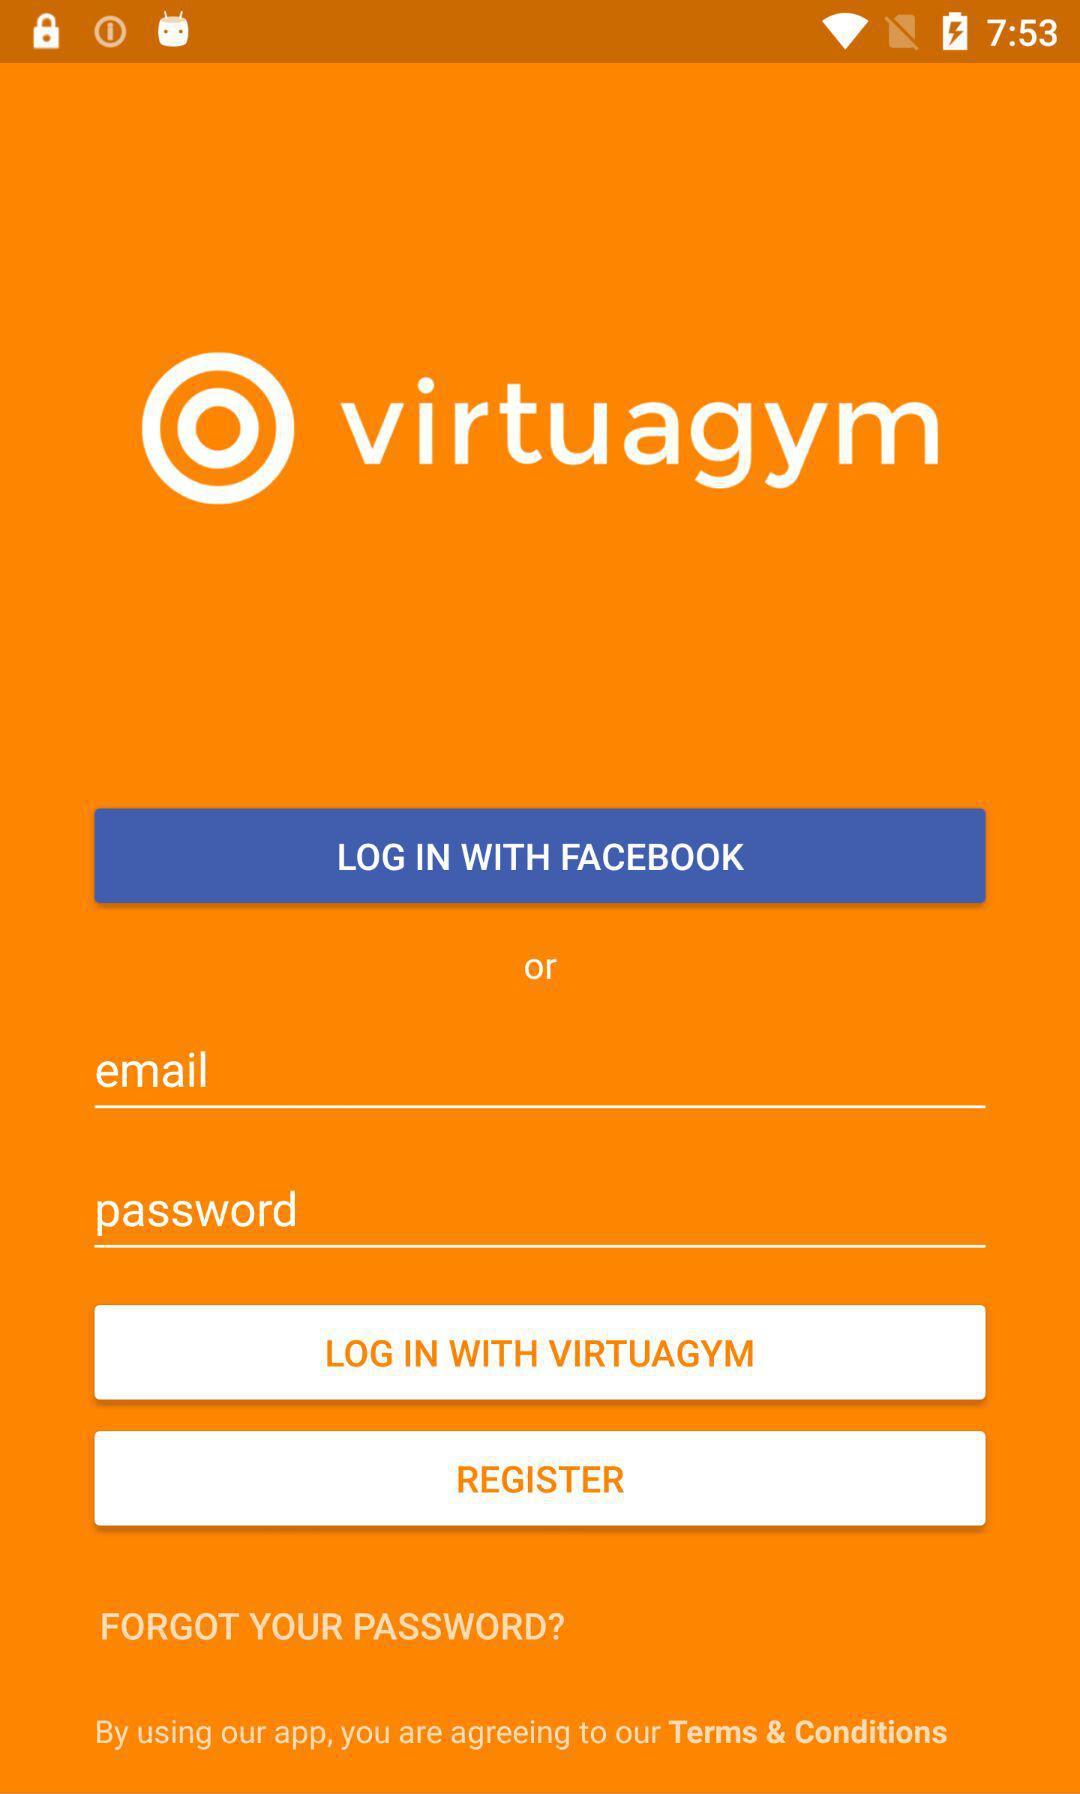EditText: (94, 1189, 986, 1249), (94, 1049, 986, 1108)
Image: (141, 351, 297, 507)
Text: (340, 375, 939, 491), (96, 1718, 949, 1753), (102, 1612, 565, 1642), (96, 1190, 297, 1238), (96, 1049, 208, 1088), (523, 955, 560, 983)
TextButton: (95, 1430, 986, 1527), (95, 1304, 986, 1401), (95, 809, 986, 903)
UpperTaskBar: (1, 1, 1080, 64)
